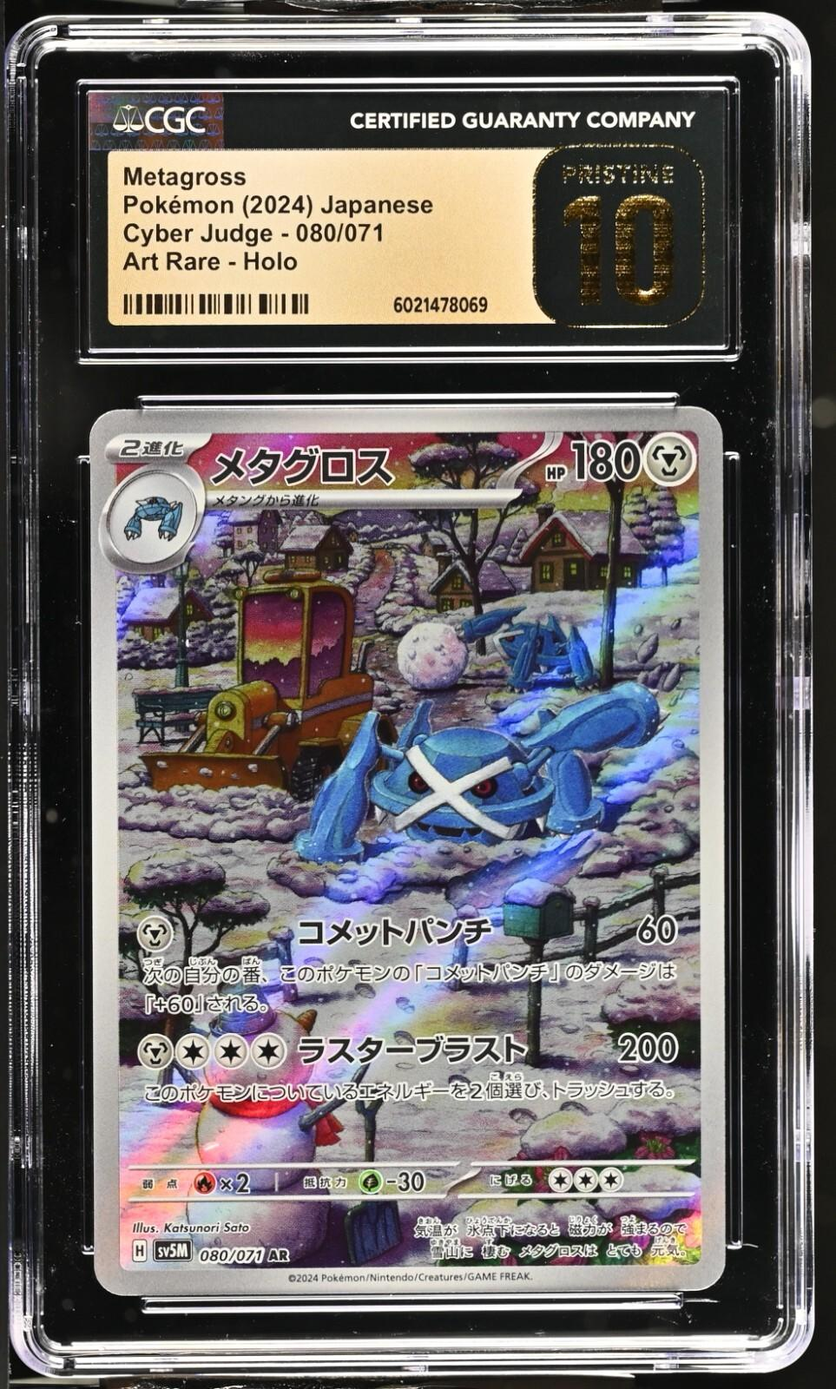card-2UtV: (89, 405, 726, 1296)
